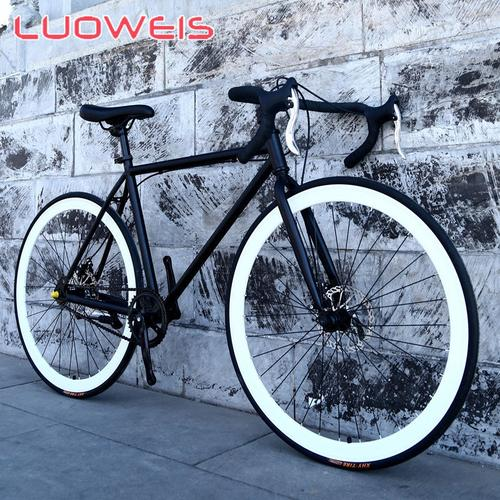单车: (7, 58, 488, 475)
